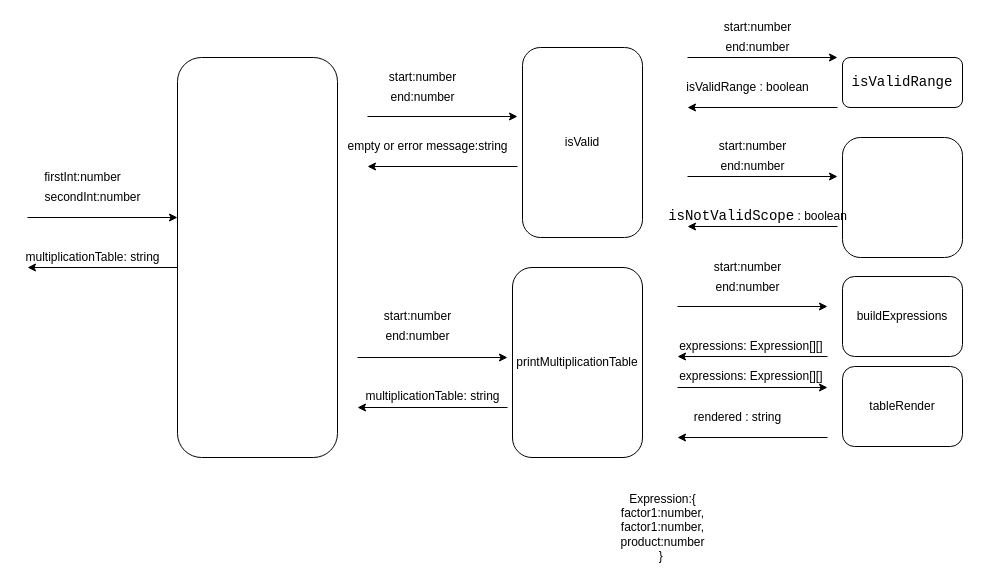
This 982x584 diagram has some shape labels left out. Here are the shapes that lost their labels. From the top down, the box of each, then its label:
(842, 136, 962, 258): isNotValidScope
(176, 56, 338, 458): render
